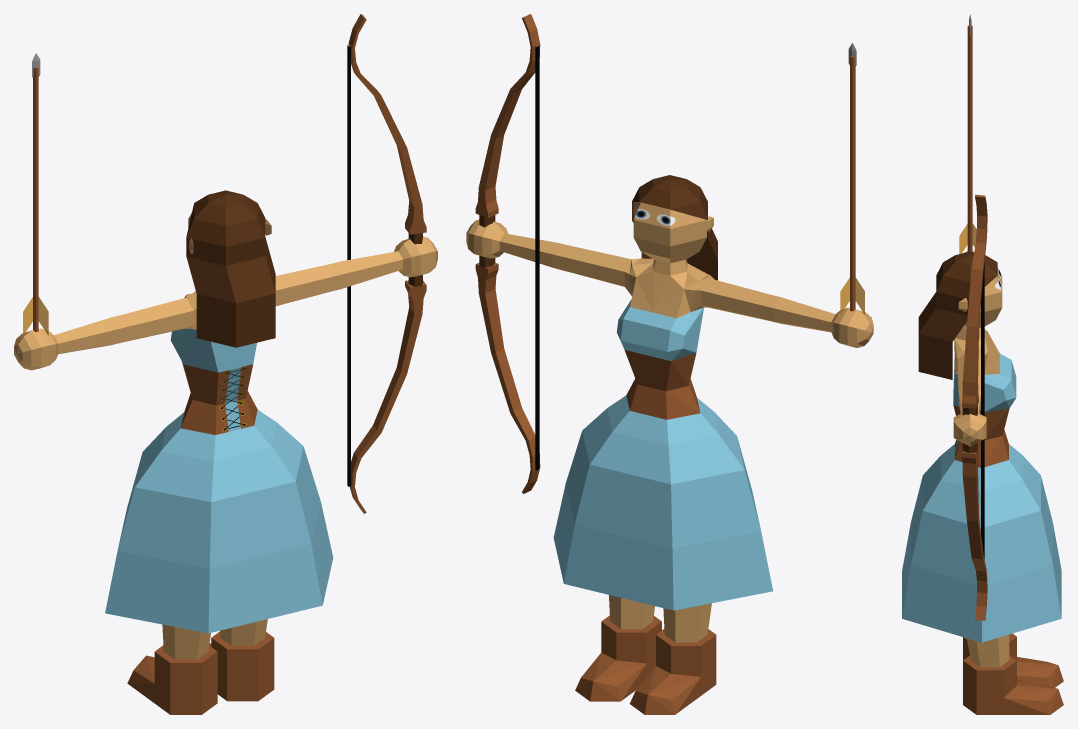
Rendered from Huntress.glb.
3 renders of one model, left to right at view 1: azimuth 30°, elevation 25°; view 2: azimuth 150°, elevation 25°; view 3: azimuth 270°, elevation 25°, orthographic. The views are drawn at different scales.
Visible parts, largest first — view 1: Skirt, Body, Hair, Bow, Arrow; view 2: Body, Skirt, Bow, Hair, Arrow; view 3: Skirt, Body, Bow, Hair, Arrow.
Part boxes in pixels (x1=…): Skirt: x1=105, y1=410, x2=333, y2=633; Body: x1=14, y1=212, x2=437, y2=714; Hair: x1=186, y1=190, x2=275, y2=347; Bow: x1=347, y1=14, x2=426, y2=513; Arrow: x1=23, y1=53, x2=48, y2=335; Body: x1=466, y1=201, x2=873, y2=714; Skirt: x1=553, y1=395, x2=772, y2=610; Bow: x1=475, y1=14, x2=540, y2=493; Hair: x1=632, y1=175, x2=717, y2=280; Arrow: x1=840, y1=43, x2=864, y2=314; Skirt: x1=902, y1=444, x2=1061, y2=642; Body: x1=953, y1=251, x2=1063, y2=714; Bow: x1=962, y1=194, x2=987, y2=620; Hair: x1=918, y1=251, x2=997, y2=379; Arrow: x1=959, y1=14, x2=976, y2=253.
Size of the model in its own units: 1.56 by 2.48 by 0.6066.
Materials: 10 (2 with a texture image).
